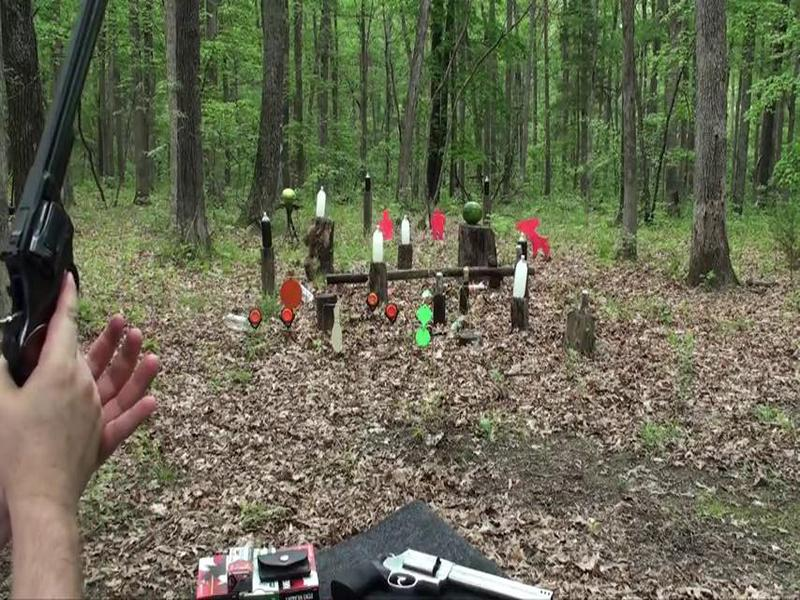Revolver: (1, 1, 144, 405)
